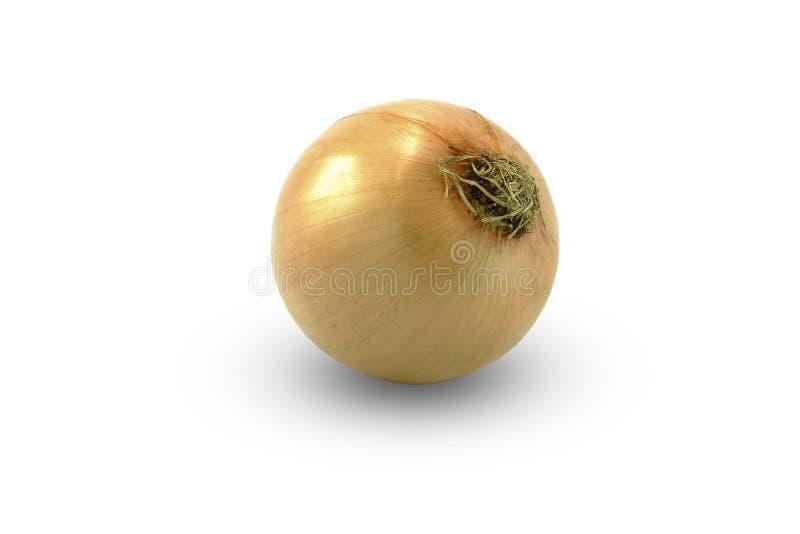Onion: (271, 100, 558, 383)
